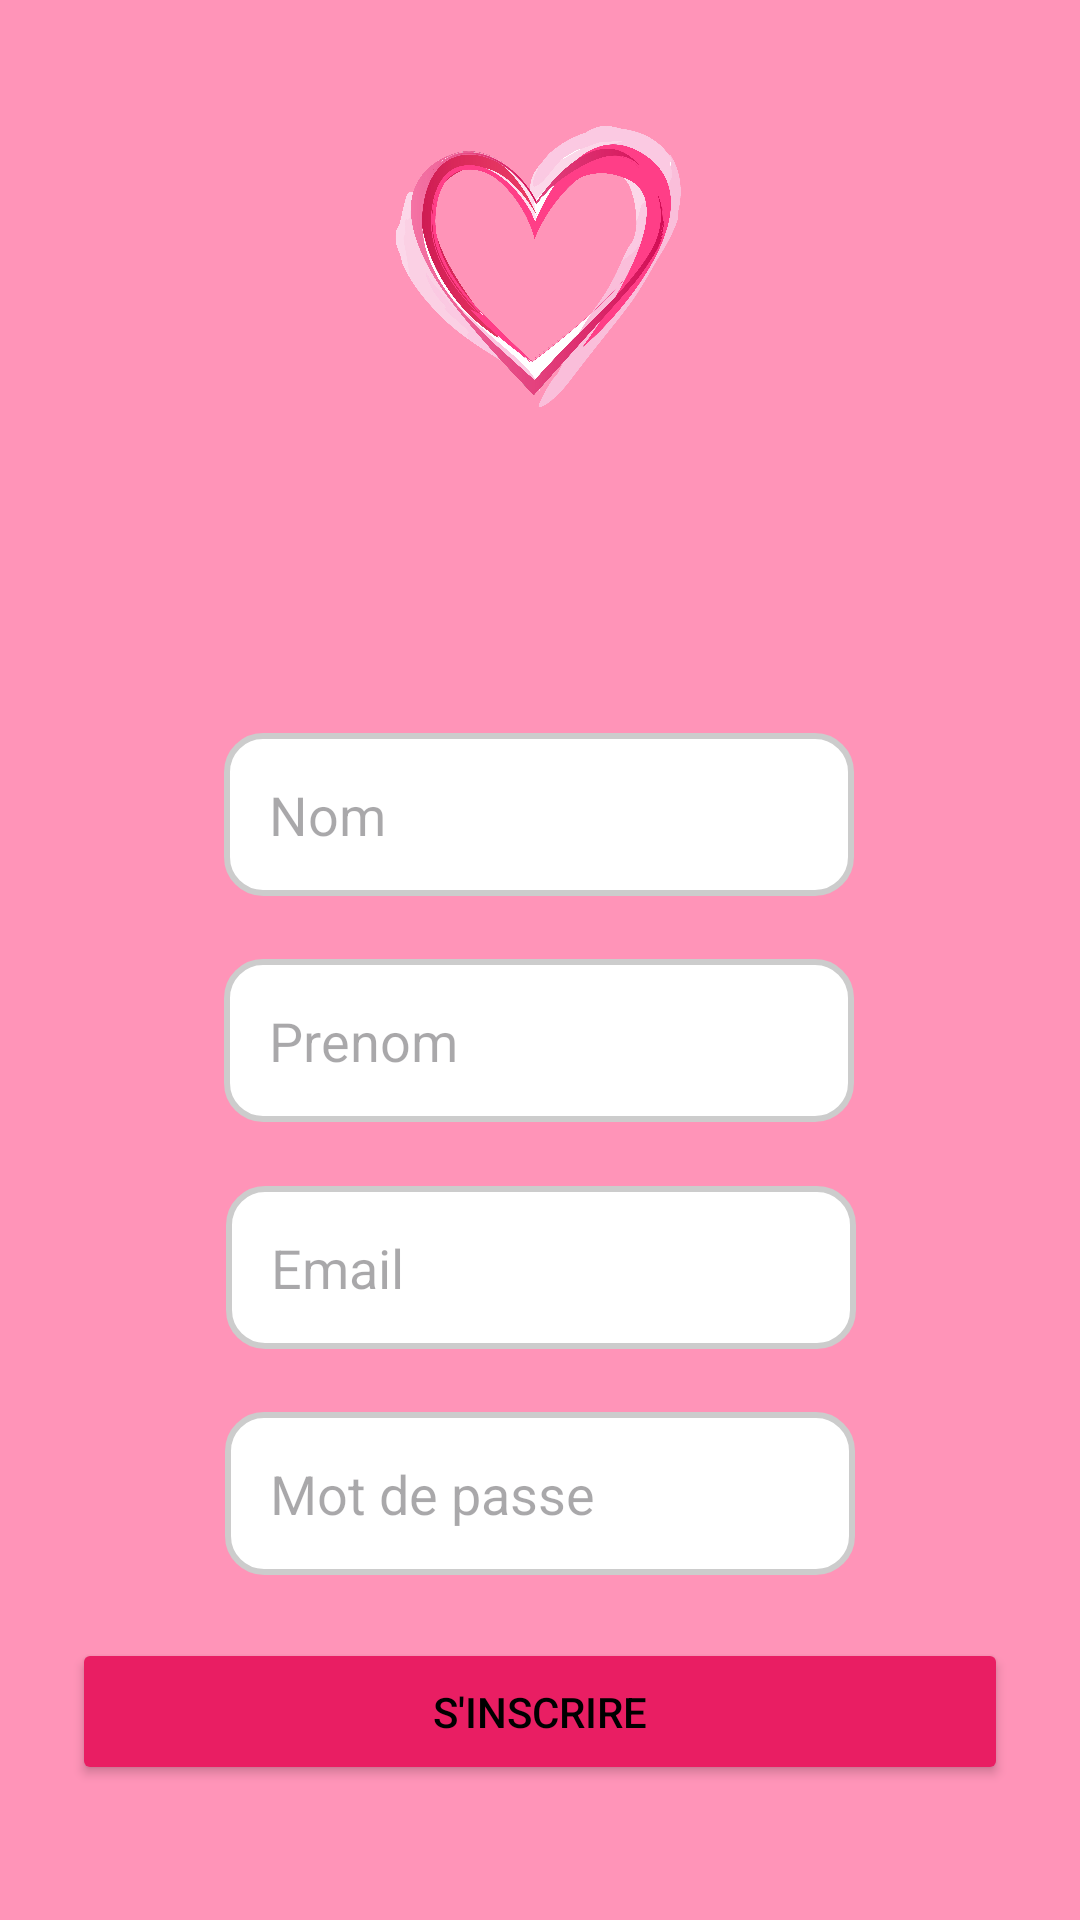

Screen size 1080px×1920px. Icon name, then its center in pixels as [x,y]:
coeur: [538,266]
